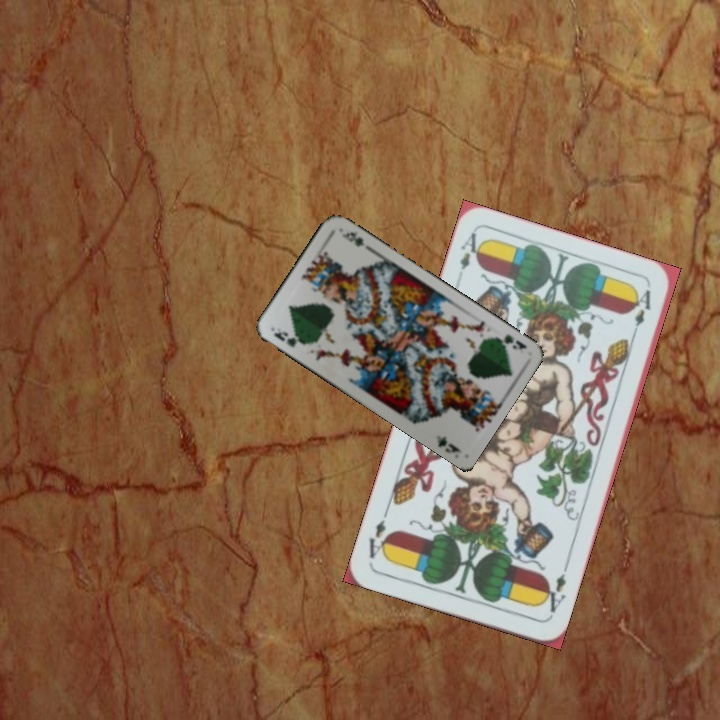EA: (538, 562, 570, 620), (456, 228, 485, 273)
GK: (269, 327, 308, 350), (490, 330, 530, 352)
